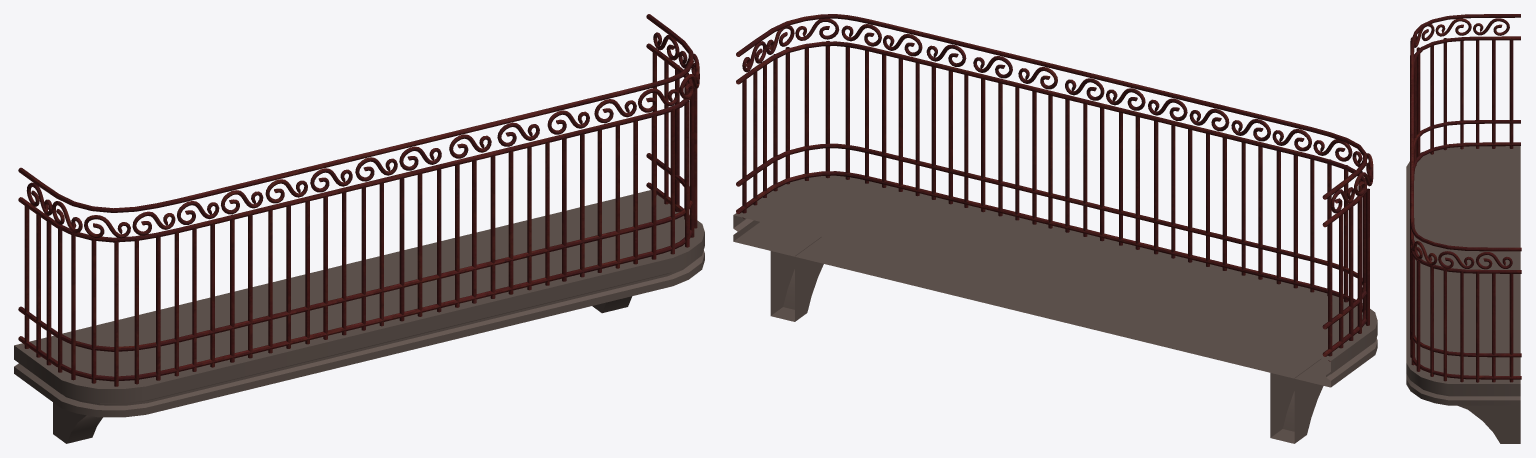
The model's file is SK5 BALCONY LARGE.fbx.
The picture shows the model from 3 angles, left to right: view 1: azimuth 30°, elevation 25°; view 2: azimuth 150°, elevation 25°; view 3: azimuth 270°, elevation 25°; orthographic projection. The views are drawn at different scales.
Parts seen in each view (by area): view 1: SK5 BALCONY LARGE; view 2: SK5 BALCONY LARGE; view 3: SK5 BALCONY LARGE.
Boxes of the visible parts, x1=… form: SK5 BALCONY LARGE: x1=14, y1=14, x2=704, y2=443; SK5 BALCONY LARGE: x1=733, y1=14, x2=1377, y2=443; SK5 BALCONY LARGE: x1=1406, y1=14, x2=1521, y2=443.
Bounding box in the file's own units: 338 × 138 × 69.13.
